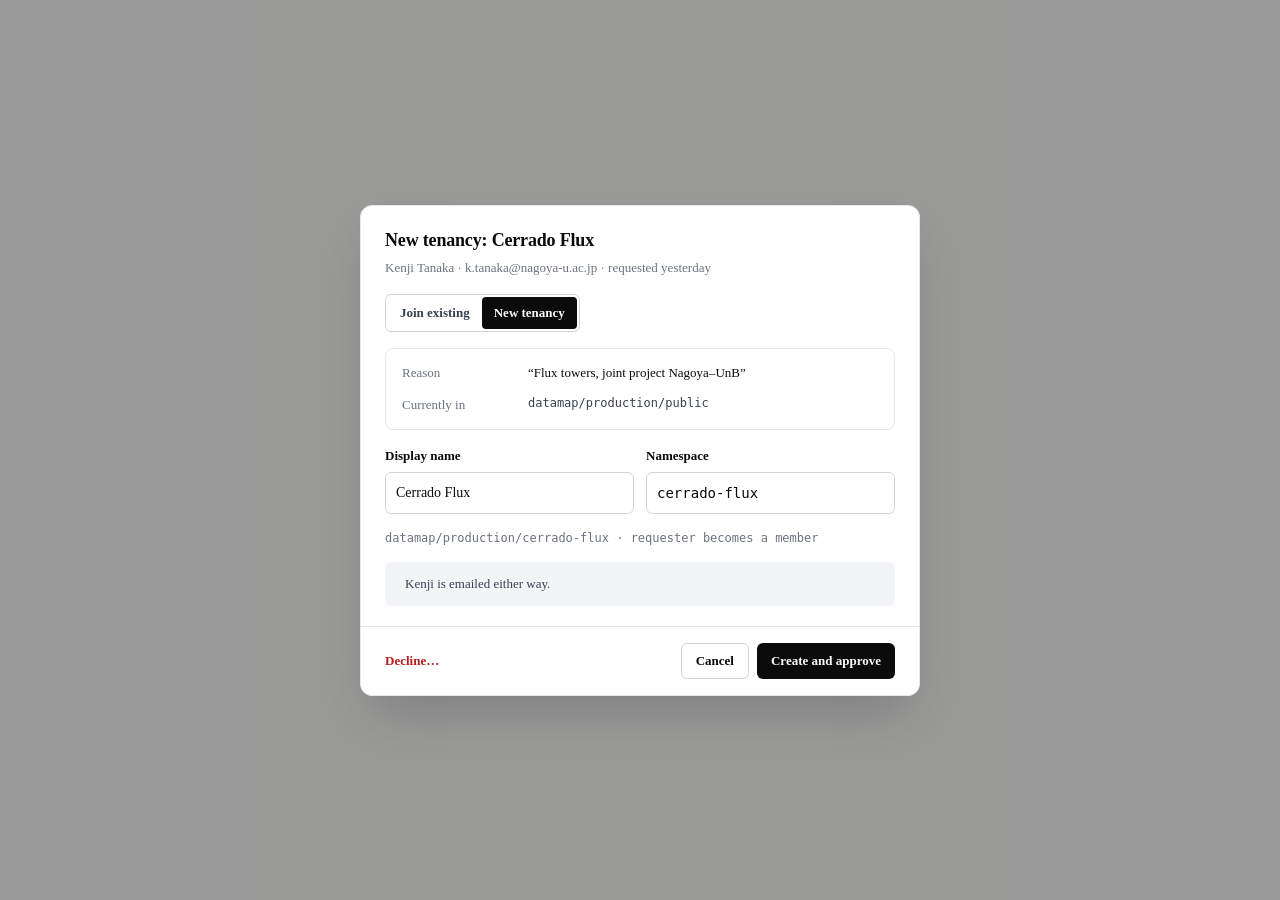
Test: ReviewRequestDialog › a namespace the server refuses is explained
Click the button "Create and approve".
click(826, 660)  # box [757,642,895,678]
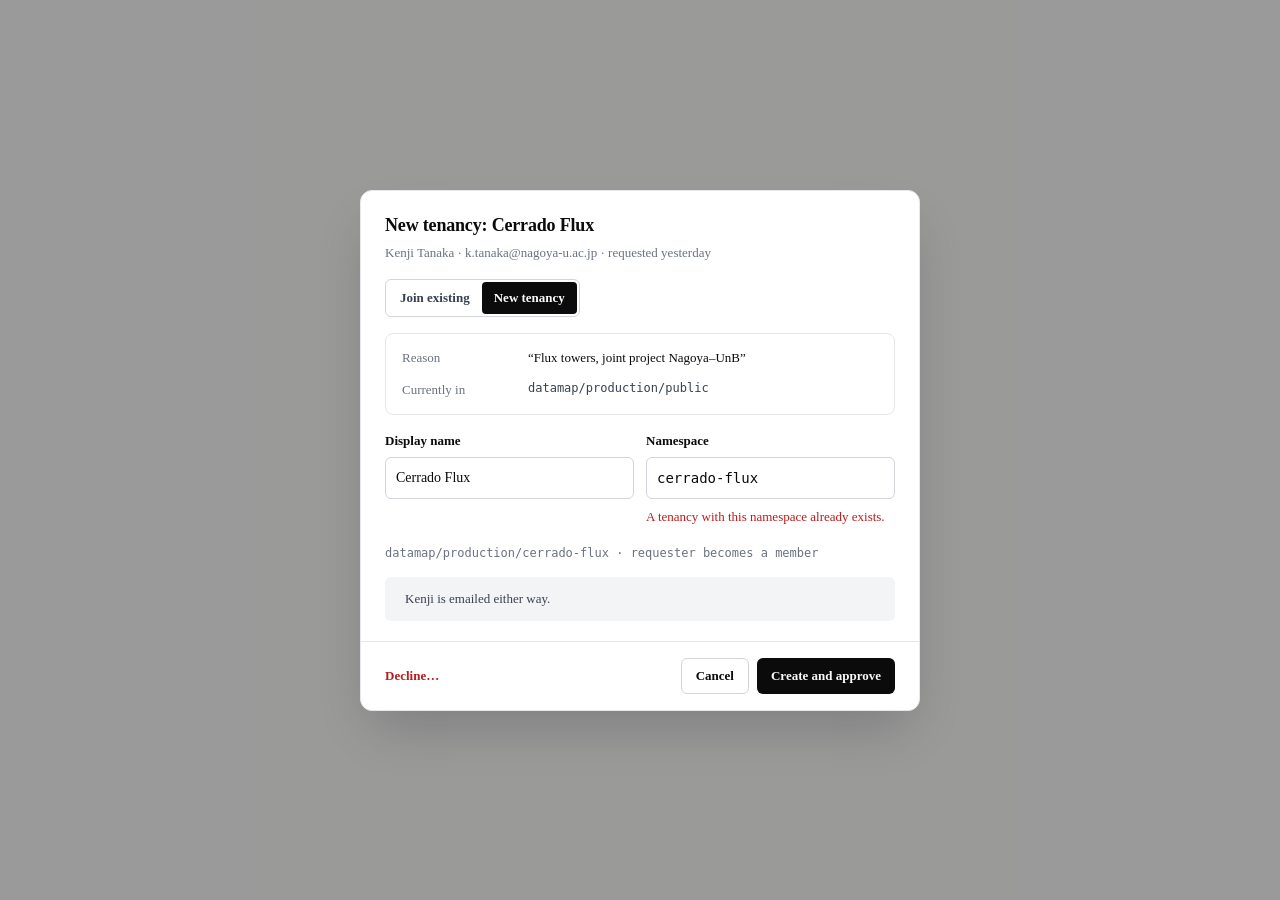
Check: the button "Create and approve" is enabled, box [757,658,895,694]
Check: the text "A tenancy with this namespace already exists." is shown, box [646,504,895,528]
